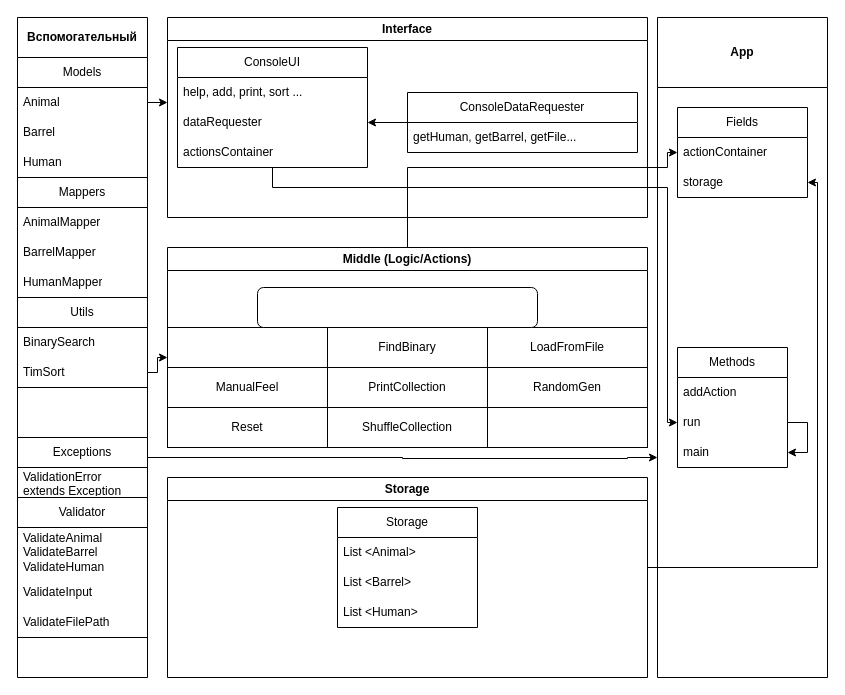
The diagram is 845 pixels wide and 695 high, and some of its shapes have lost their labels. Each missing label, with the centre of its shape:
ActionStub: pixel 567 427
BaseSort: pixel 247 347
interface Action { String doing(Map) }: pixel 397 307
